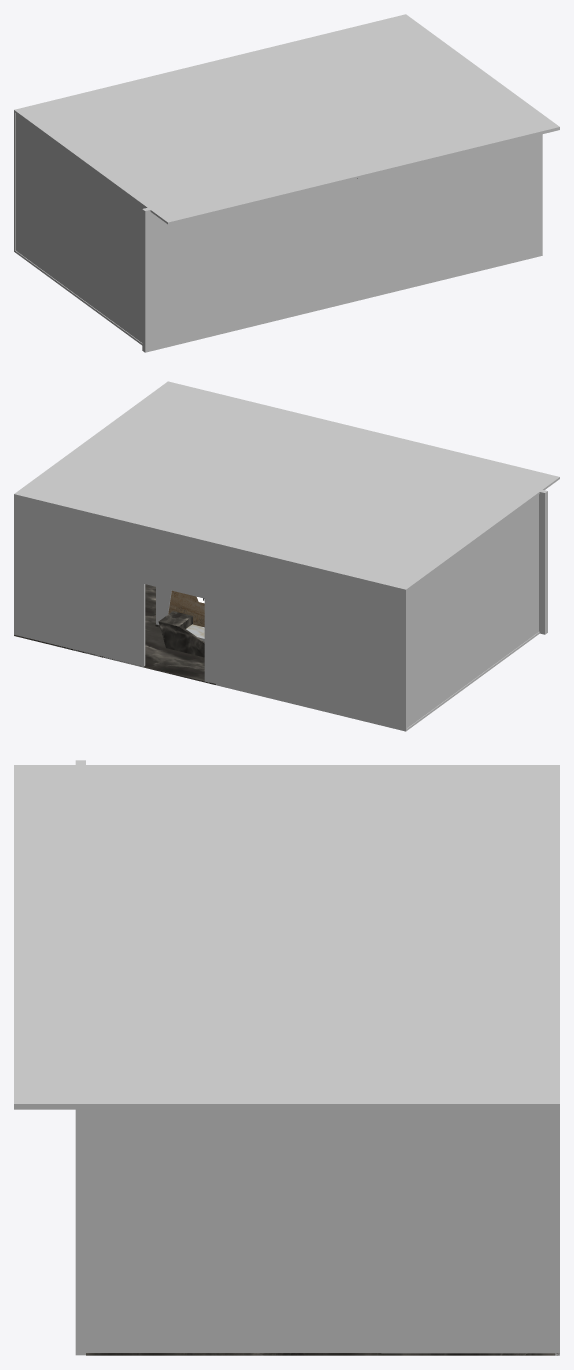
File: door.glb
3 renders of one model, top to bottom at view 1: azimuth 30°, elevation 25°; view 2: azimuth 150°, elevation 25°; view 3: azimuth 270°, elevation 25°, orthographic. The views are drawn at different scales.
Visible parts, largest first — view 1: 墙; view 2: 墙, 大理石地板.1, 前台.1, 墙面.1, 立方体.1, 背景墙左侧; view 3: 墙, 大理石地板.1.
Part boxes in pixels (left/top/right/bottom): 墙: left=14, top=14, right=559, bottom=352; 墙: left=14, top=381, right=559, bottom=731; 大理石地板.1: left=14, top=584, right=215, bottom=684; 前台.1: left=158, top=611, right=204, bottom=657; 墙面.1: left=168, top=590, right=204, bottom=627; 立方体.1: left=216, top=631, right=539, bottom=731; 背景墙左侧: left=156, top=587, right=171, bottom=624; 墙: left=14, top=760, right=559, bottom=1355; 大理石地板.1: left=86, top=1353, right=559, bottom=1355.
Size of what is drawn, in the model's own units: 217 by 74.06 by 146.
14 materials, 9 textured.
